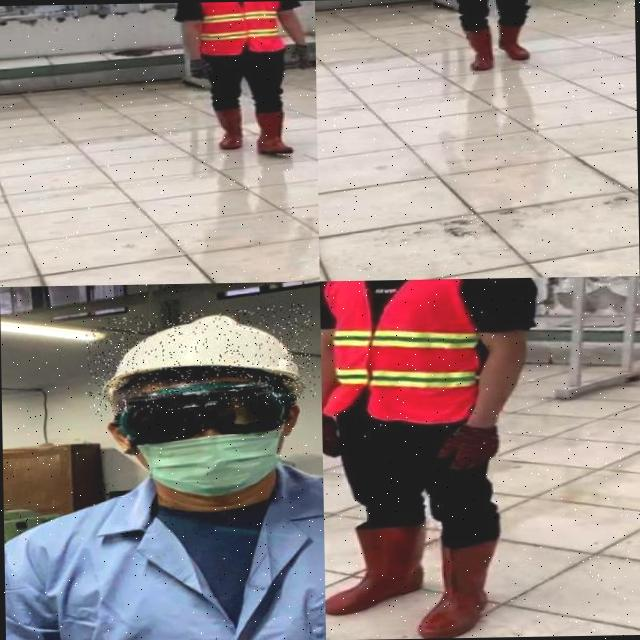boots: (323, 520, 432, 617), (408, 540, 502, 638), (255, 109, 297, 156), (460, 22, 499, 72), (492, 19, 534, 62), (210, 105, 246, 152)
helmet: (83, 303, 316, 417)
vest: (319, 278, 492, 429), (194, 0, 284, 56)
